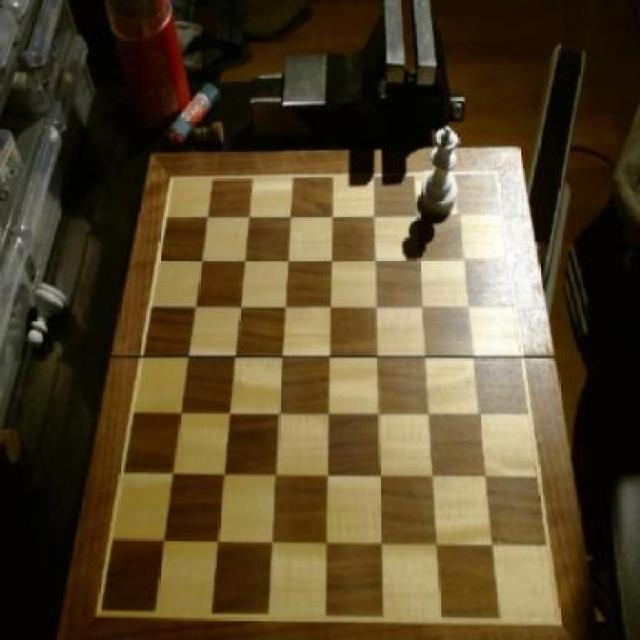white-pawn: (422, 128, 462, 222)
